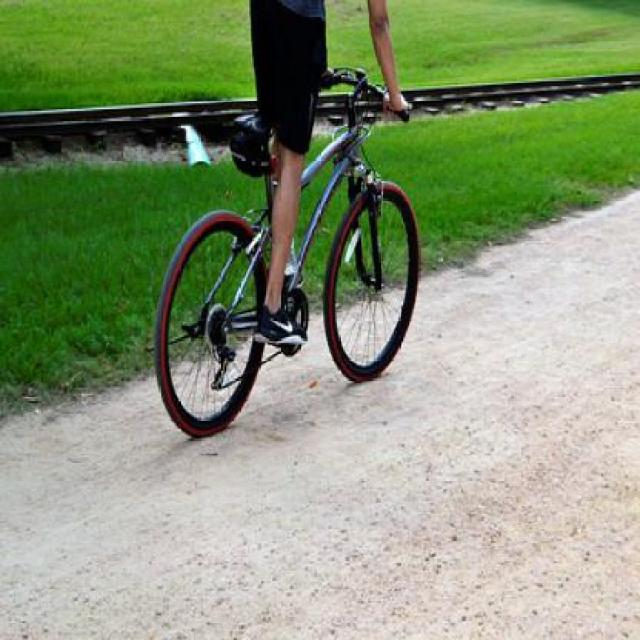Bicycle: (143, 0, 434, 445)
